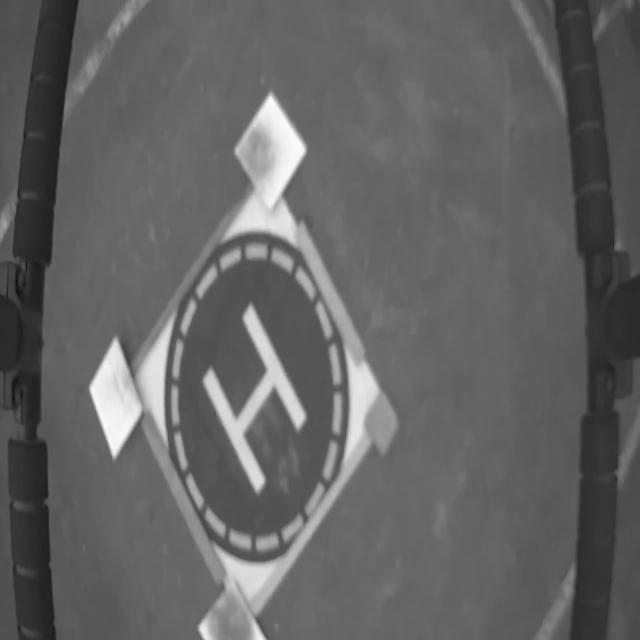Helipad: (202, 301, 309, 494)
